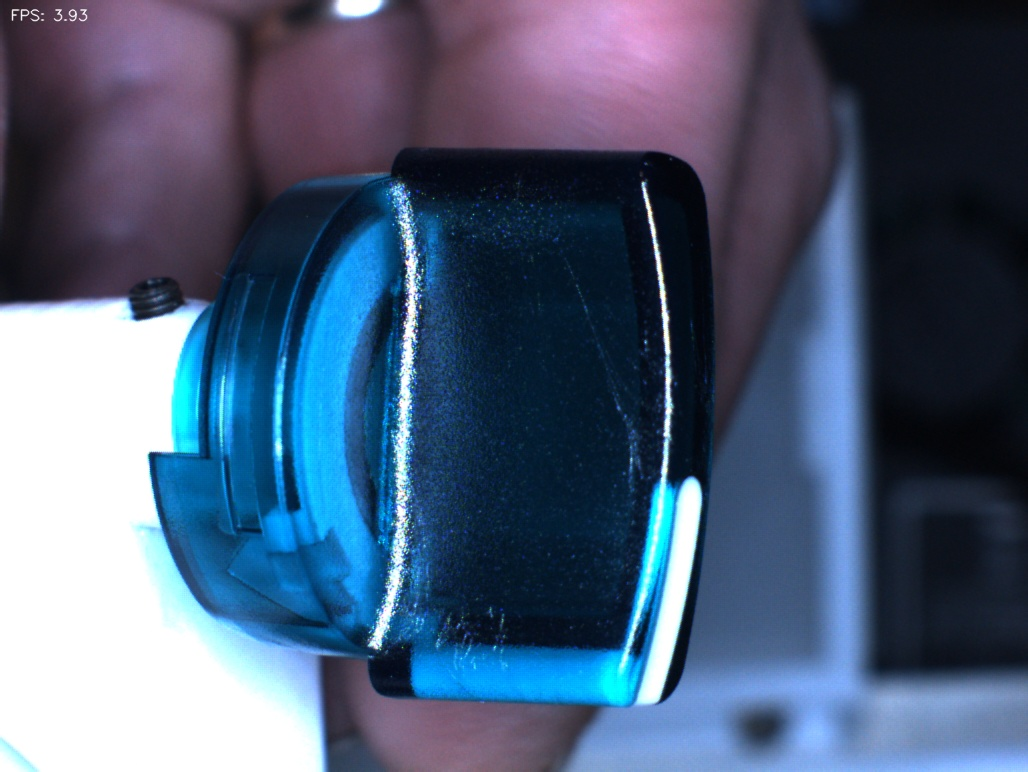Givrage: (424, 592, 520, 684)
